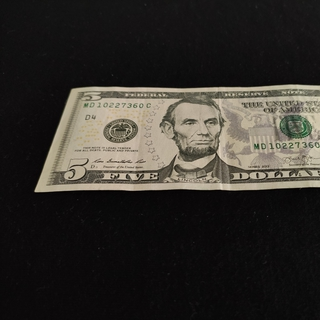5USDFront: (33, 84, 320, 193)
